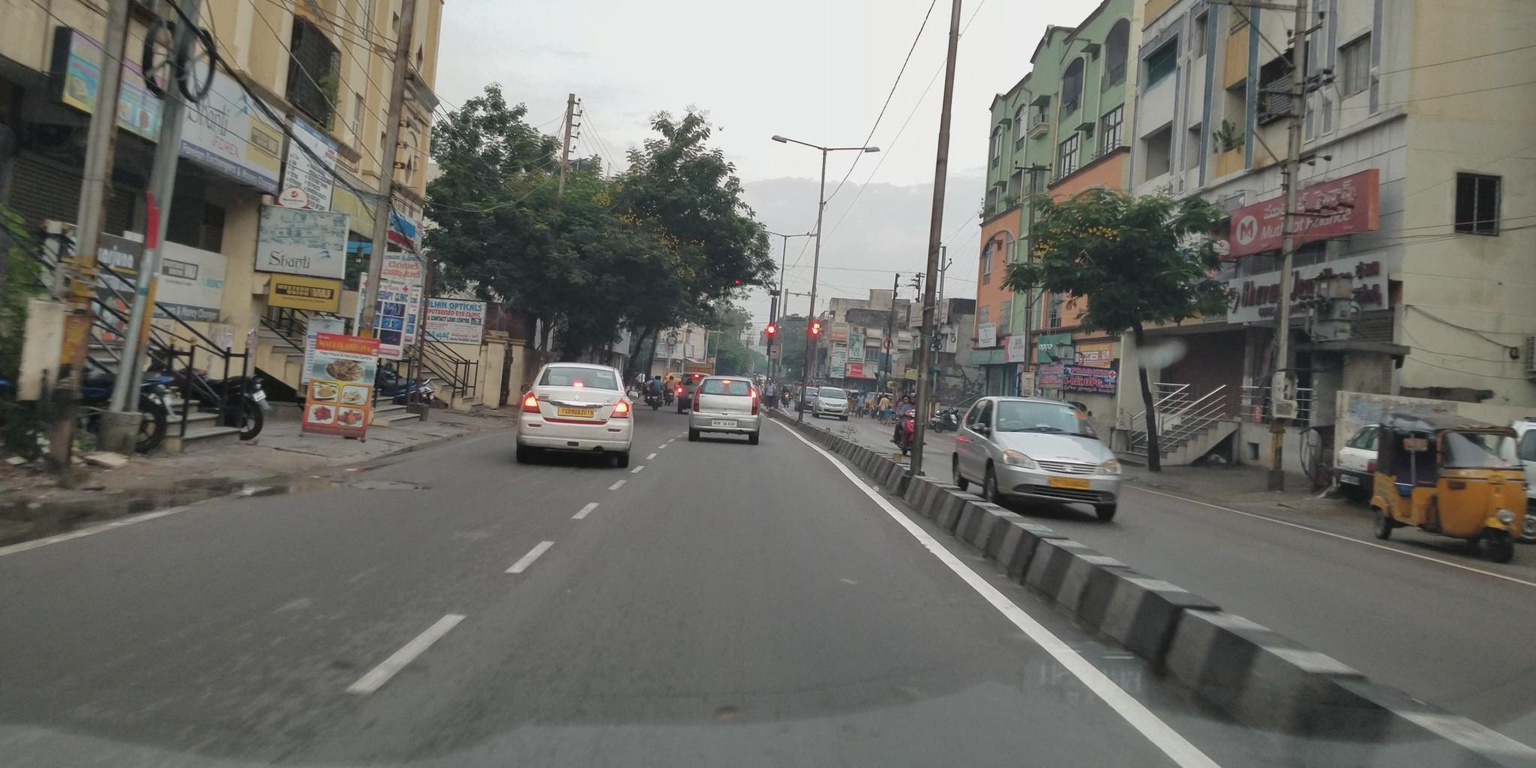streetlight: (762, 124, 826, 164), (826, 128, 891, 167), (779, 220, 821, 254)
